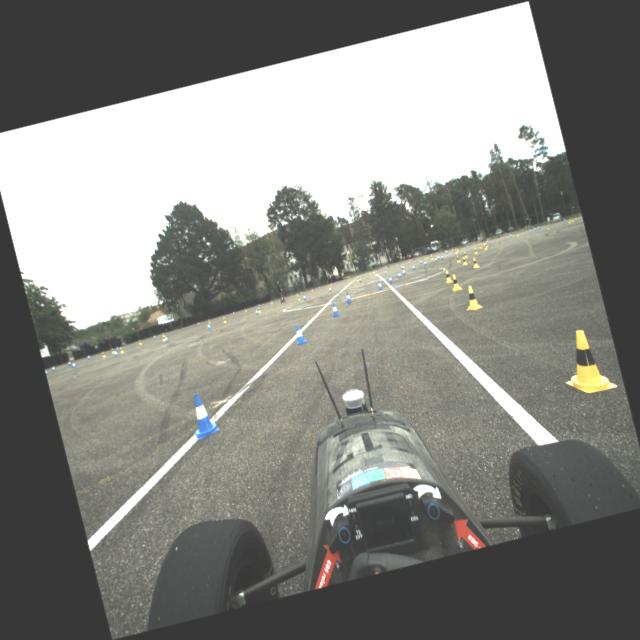blue_cone: (184, 390, 220, 440), (290, 322, 308, 346), (329, 301, 340, 317), (344, 291, 352, 303), (376, 280, 382, 290), (387, 275, 393, 284), (396, 270, 401, 278), (113, 349, 118, 357), (401, 268, 406, 275), (71, 361, 76, 368), (206, 322, 211, 329), (422, 259, 427, 265), (411, 263, 415, 270), (68, 359, 72, 366), (164, 335, 168, 342), (433, 256, 438, 261), (44, 369, 48, 375), (51, 364, 55, 370), (254, 308, 258, 314), (302, 293, 306, 299), (358, 276, 362, 282), (152, 334, 156, 339), (328, 286, 332, 291), (419, 258, 422, 264), (86, 354, 90, 358), (115, 346, 119, 350), (436, 254, 439, 259), (440, 254, 443, 258), (509, 232, 512, 236), (409, 258, 412, 262), (384, 269, 386, 274), (419, 256, 422, 259), (548, 222, 550, 226), (528, 228, 530, 232), (536, 226, 538, 230), (486, 238, 488, 242), (466, 244, 468, 248), (197, 321, 199, 325), (232, 310, 234, 314), (258, 302, 260, 306), (400, 264, 402, 268), (362, 272, 364, 276), (452, 248, 454, 252), (383, 266, 385, 270), (563, 218, 565, 221), (533, 227, 535, 230), (335, 280, 337, 283), (440, 251, 442, 254), (396, 262, 398, 265), (318, 286, 320, 288), (446, 250, 448, 252), (350, 276, 350, 278)
yellow_cone: (553, 322, 617, 398), (460, 283, 482, 311), (448, 272, 462, 290), (442, 268, 453, 284), (470, 256, 480, 268), (460, 256, 468, 266), (454, 254, 460, 263), (118, 346, 124, 353), (463, 250, 468, 258), (473, 247, 478, 254), (482, 243, 487, 250), (101, 350, 105, 358), (161, 334, 165, 341), (222, 316, 226, 323), (257, 306, 261, 313), (573, 214, 577, 220), (570, 216, 574, 222), (110, 347, 114, 353), (138, 338, 142, 344), (296, 294, 300, 300), (478, 243, 482, 248), (566, 218, 570, 223), (401, 262, 404, 268), (515, 232, 519, 236), (454, 248, 457, 253), (546, 224, 549, 228), (482, 240, 485, 244), (329, 282, 332, 286), (430, 255, 433, 259), (485, 242, 487, 247), (208, 318, 210, 323), (270, 299, 272, 304), (356, 276, 358, 281), (374, 271, 376, 276), (456, 248, 458, 252), (244, 308, 246, 312), (296, 292, 298, 296), (311, 287, 313, 291), (364, 272, 366, 276), (375, 268, 377, 272), (426, 254, 428, 258), (436, 252, 438, 256), (348, 277, 350, 280), (408, 259, 410, 262), (418, 257, 420, 260), (423, 256, 425, 259), (385, 266, 387, 269), (396, 263, 398, 266)
